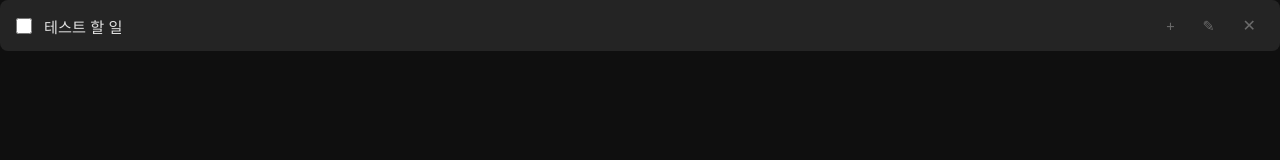
Test case: TodoItem › shows subtask add input when + button clicked
This screenshot has width=1280, height=160.
Step 1. Click the button named "서브태스크: 테스트 할 일" → (1170, 26), box [1158, 14, 1182, 38]
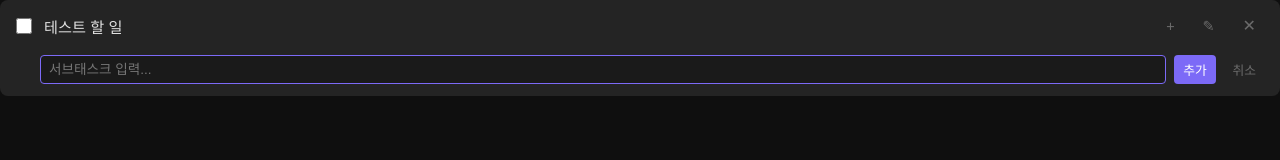
Now the field labelled "서브태스크 입력" is shown, box [40, 55, 1166, 84]
